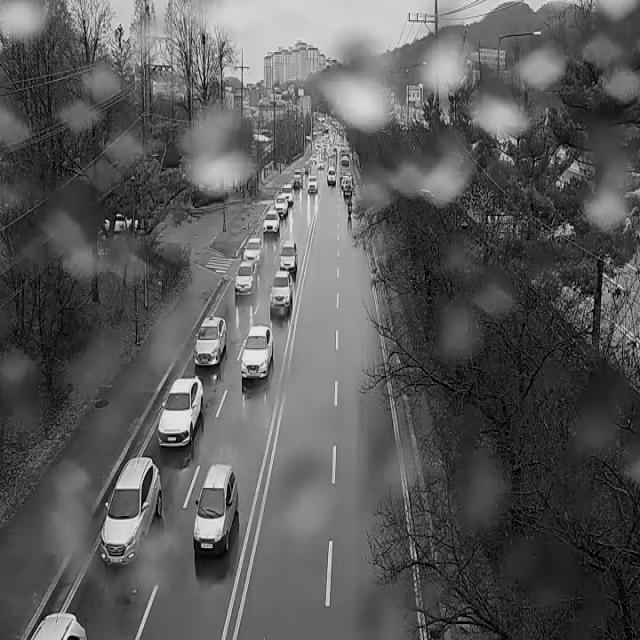Bus: (340, 156, 350, 177)
Car: (100, 457, 162, 567), (194, 465, 238, 555), (158, 378, 203, 447), (30, 611, 87, 640), (194, 316, 227, 366), (242, 326, 274, 377), (270, 270, 292, 308), (235, 261, 257, 296), (105, 214, 138, 232), (279, 241, 297, 273), (244, 238, 263, 266), (264, 210, 280, 233), (274, 196, 288, 218), (342, 173, 353, 197), (282, 185, 294, 203), (307, 176, 318, 194), (293, 170, 302, 189), (328, 167, 336, 185), (303, 166, 311, 173), (318, 160, 324, 169), (312, 155, 316, 164)
Truck: (328, 156, 337, 172)
